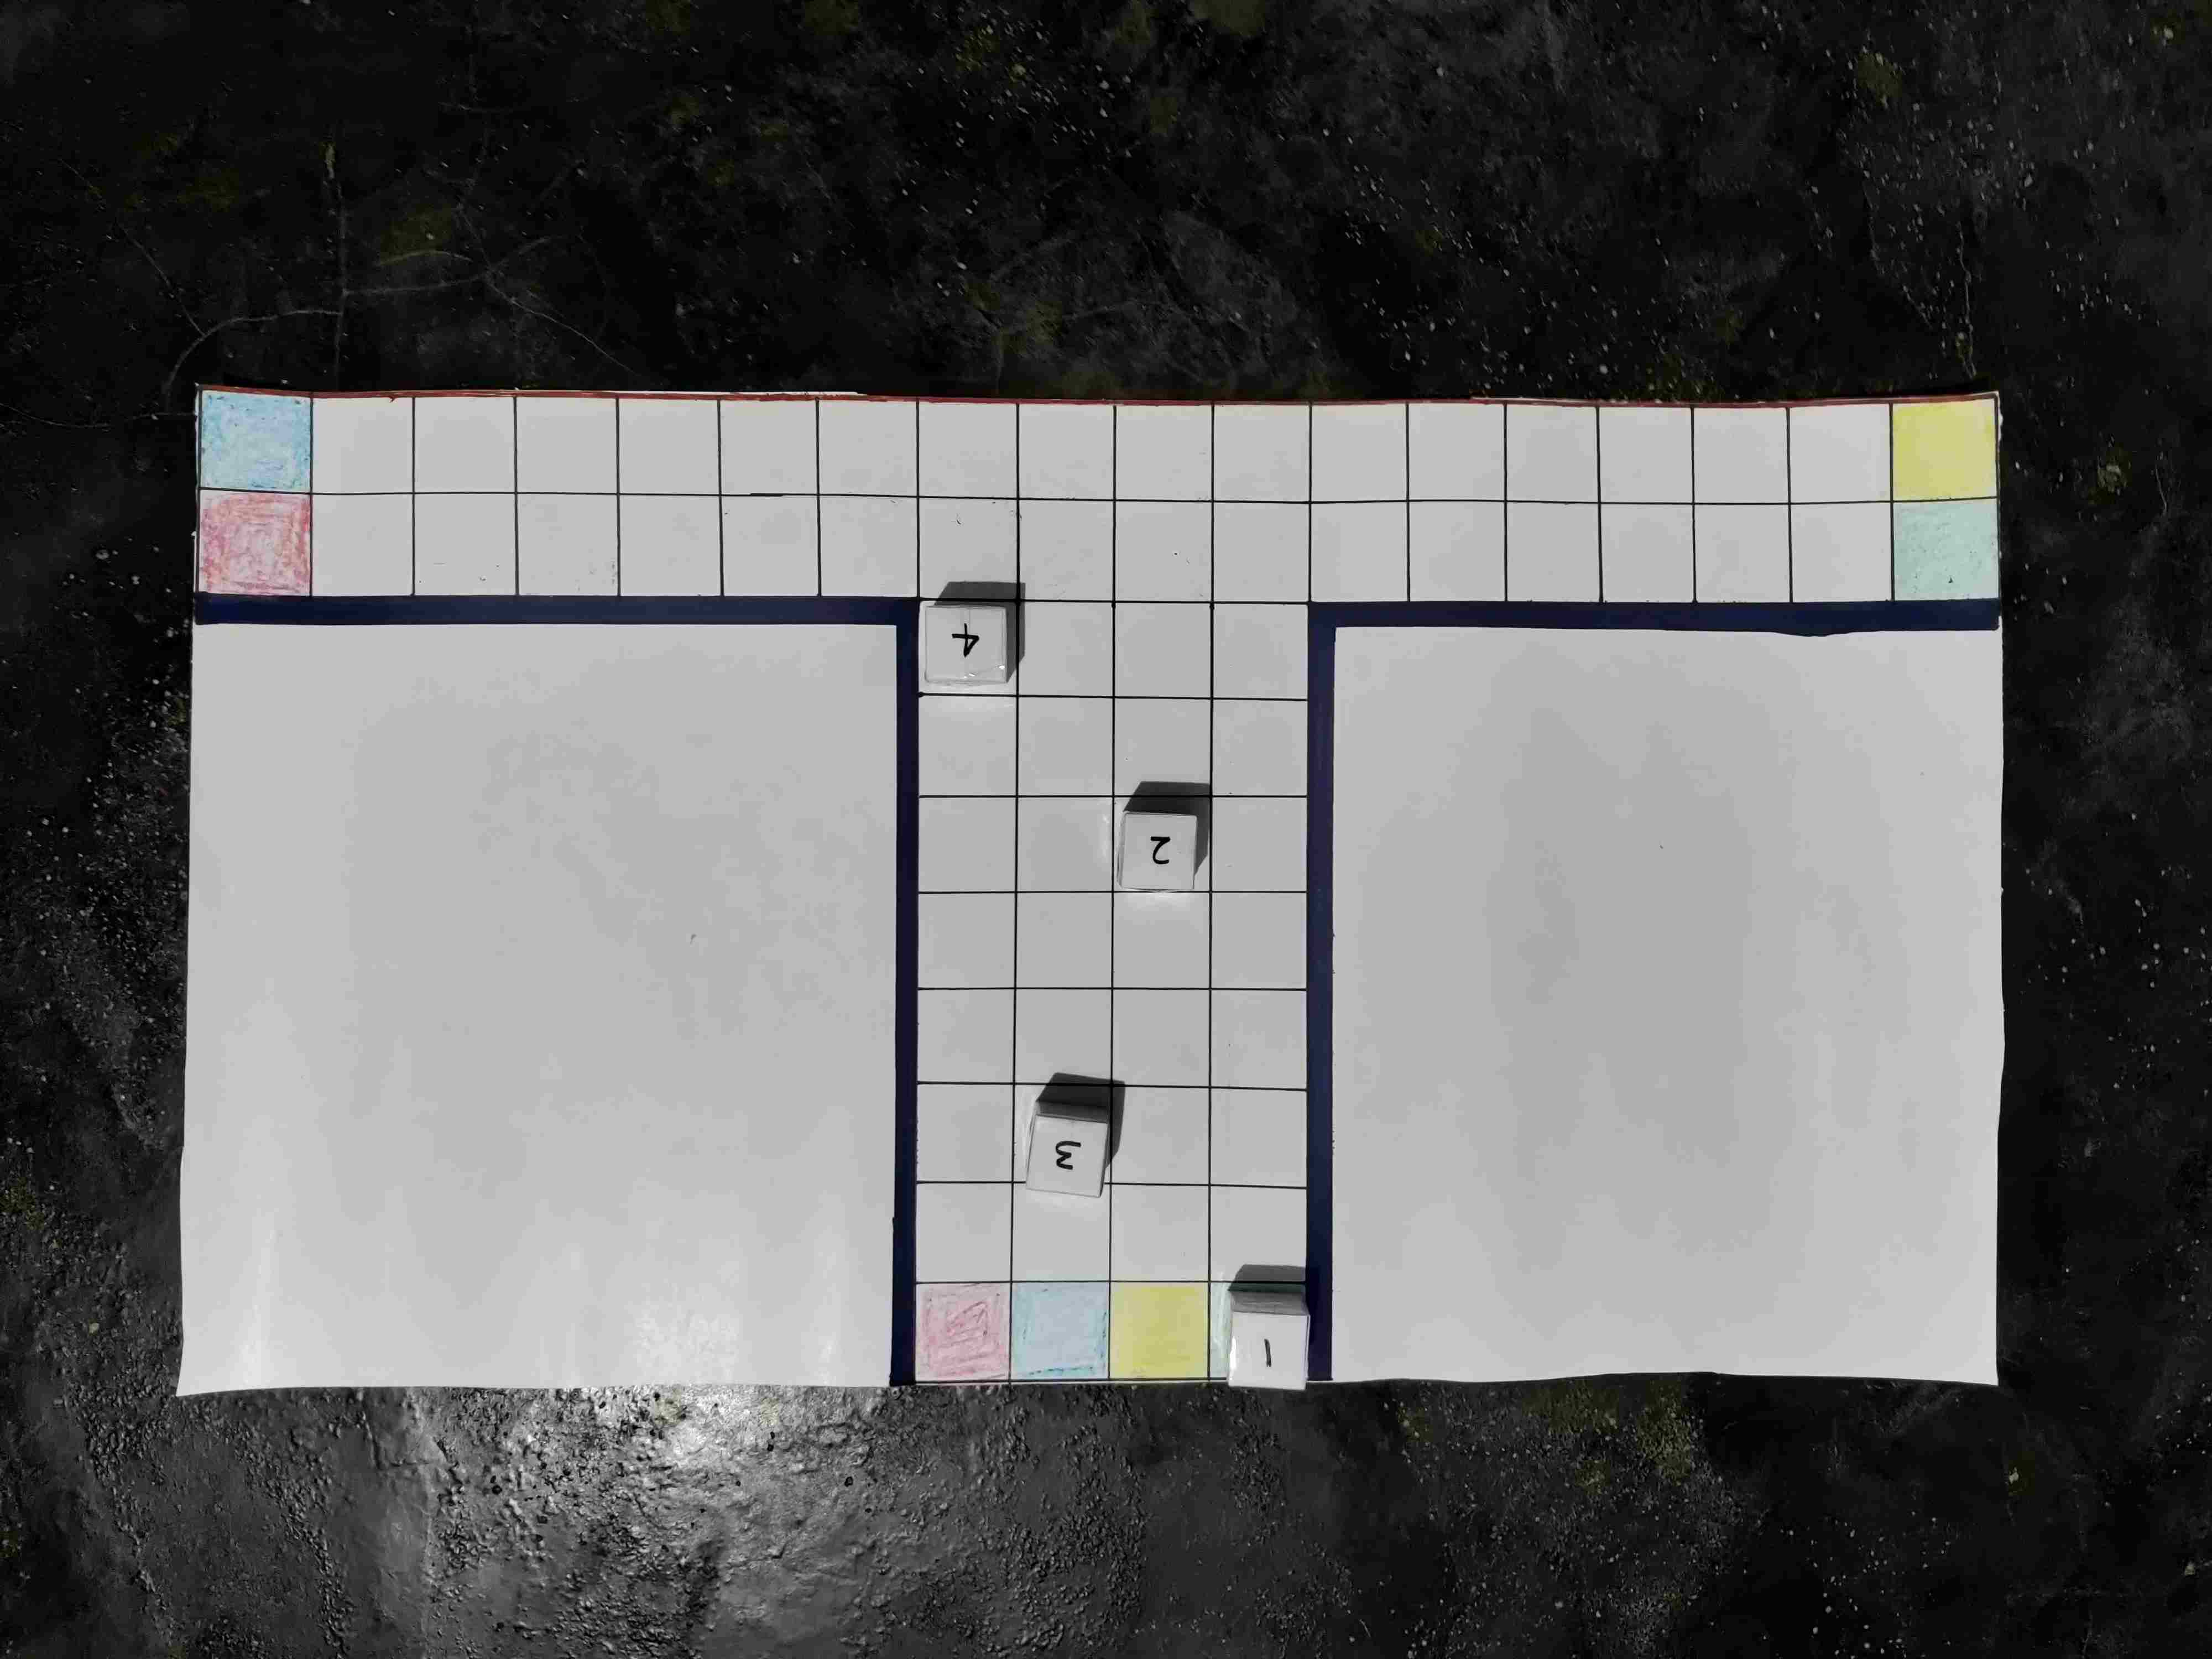arena: (193, 390, 2000, 1403)
bot: (1028, 1107, 1106, 1192), (925, 608, 1008, 681), (1230, 1309, 1305, 1387), (1125, 810, 1197, 885)
